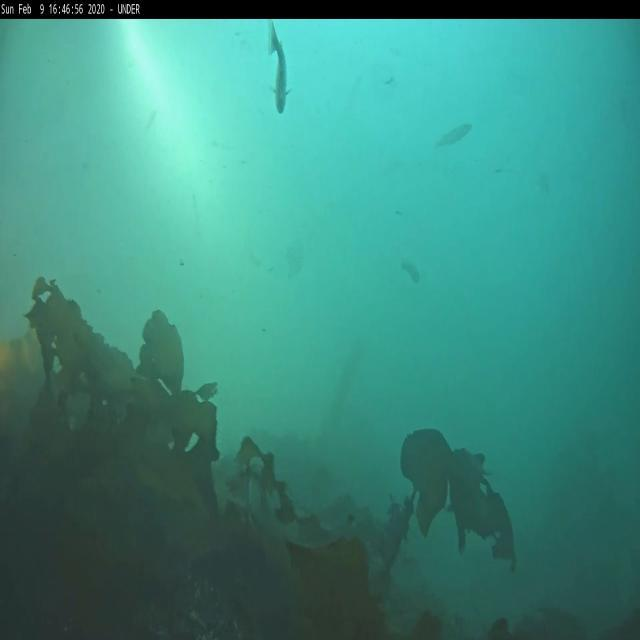fish: (266, 20, 290, 114), (435, 121, 473, 151), (400, 256, 420, 286)
